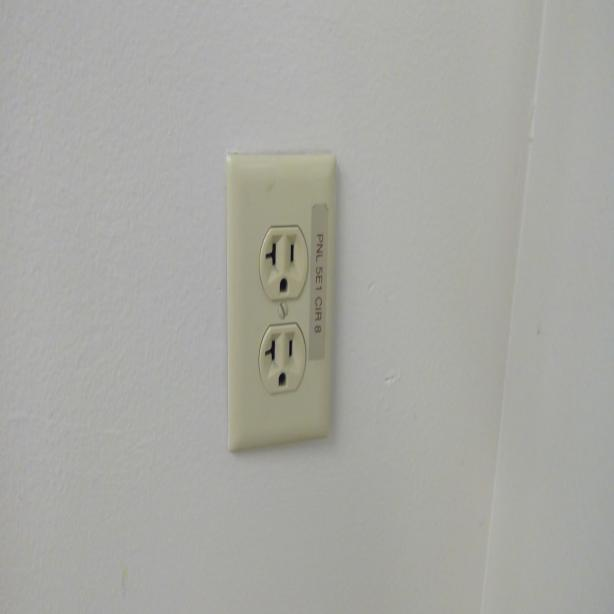typeb: (258, 224, 307, 298), (259, 324, 306, 393)
